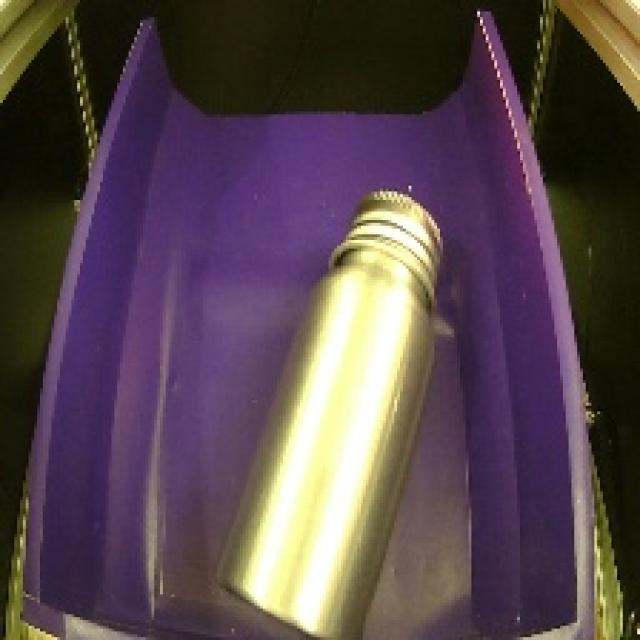metal: (200, 171, 457, 640)
